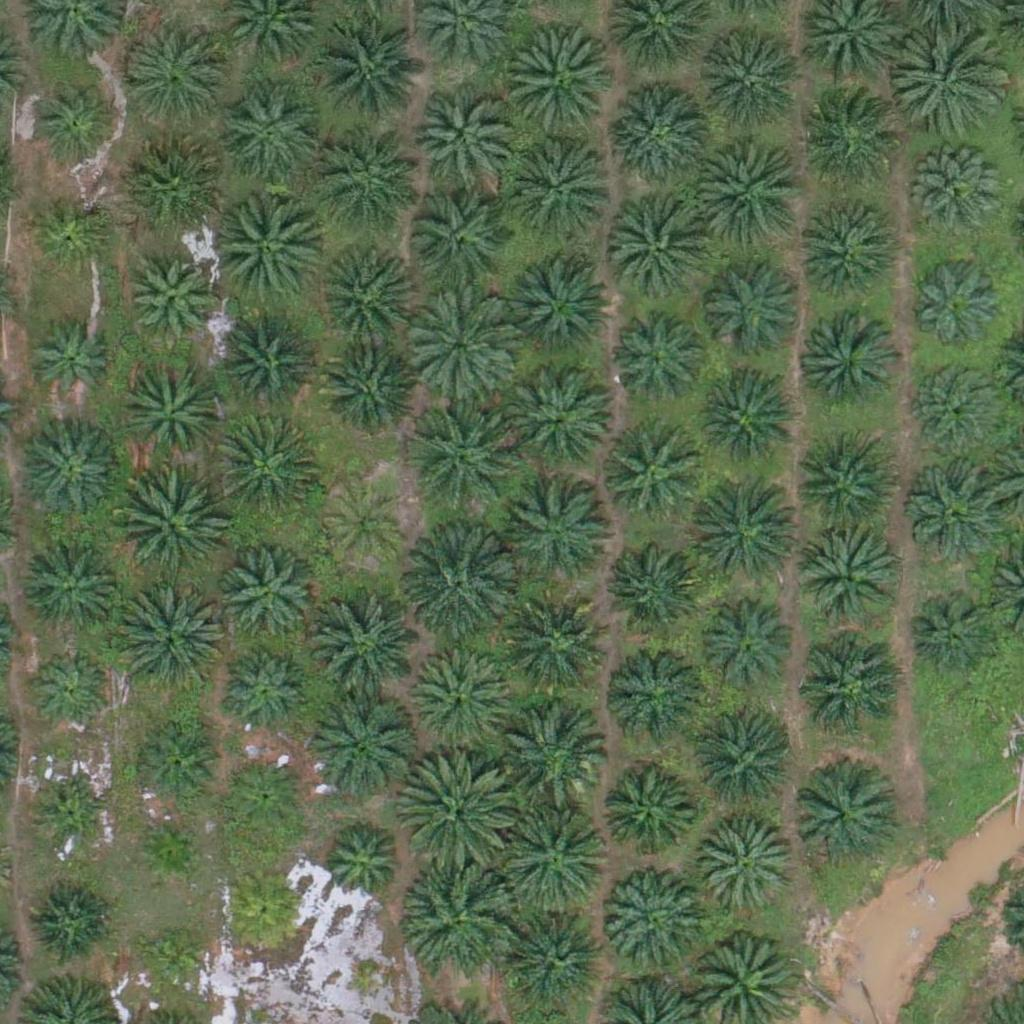Kelapa_Sawit: (402, 403, 515, 517), (203, 189, 316, 302), (502, 27, 615, 140), (694, 134, 807, 247), (405, 860, 518, 973), (495, 696, 608, 809), (402, 529, 515, 642), (112, 582, 225, 695), (113, 470, 226, 583), (700, 24, 812, 138), (893, 23, 1005, 137), (498, 797, 610, 911), (400, 749, 512, 863), (123, 16, 235, 129), (312, 16, 424, 129), (403, 288, 515, 401), (504, 131, 616, 244), (690, 474, 802, 587), (211, 412, 323, 525), (309, 595, 421, 708), (304, 688, 416, 801), (135, 135, 235, 236), (217, 82, 317, 183), (208, 311, 308, 412), (311, 242, 411, 343), (321, 142, 421, 243), (412, 85, 512, 186), (510, 250, 610, 351), (611, 81, 711, 182), (610, 206, 710, 307), (703, 258, 803, 359), (796, 93, 896, 194), (800, 208, 900, 309), (801, 316, 901, 417), (790, 768, 890, 869), (697, 817, 797, 918), (595, 762, 695, 863), (602, 870, 702, 971), (909, 457, 1009, 558), (793, 526, 893, 627), (793, 438, 893, 539), (697, 370, 797, 471), (411, 650, 511, 751), (216, 544, 316, 645), (120, 363, 220, 464), (18, 423, 118, 524), (20, 536, 120, 637), (405, 192, 505, 292), (909, 255, 1009, 355), (695, 719, 795, 819), (509, 908, 609, 1008), (799, 636, 899, 736), (695, 595, 795, 695), (607, 640, 707, 740), (599, 420, 699, 520), (604, 536, 704, 636), (510, 369, 610, 469), (510, 486, 610, 586), (502, 599, 602, 699), (312, 339, 412, 439), (220, 864, 308, 953), (914, 362, 1002, 451), (29, 187, 117, 275), (29, 74, 117, 162), (124, 255, 212, 343), (220, 751, 308, 839), (321, 482, 409, 570), (25, 649, 113, 737), (222, 647, 309, 736), (24, 319, 111, 407), (613, 315, 700, 403), (916, 156, 1003, 244), (27, 878, 114, 966), (316, 819, 403, 907), (910, 588, 997, 676), (131, 721, 218, 809), (131, 813, 206, 889), (135, 921, 210, 997), (37, 784, 112, 859)
